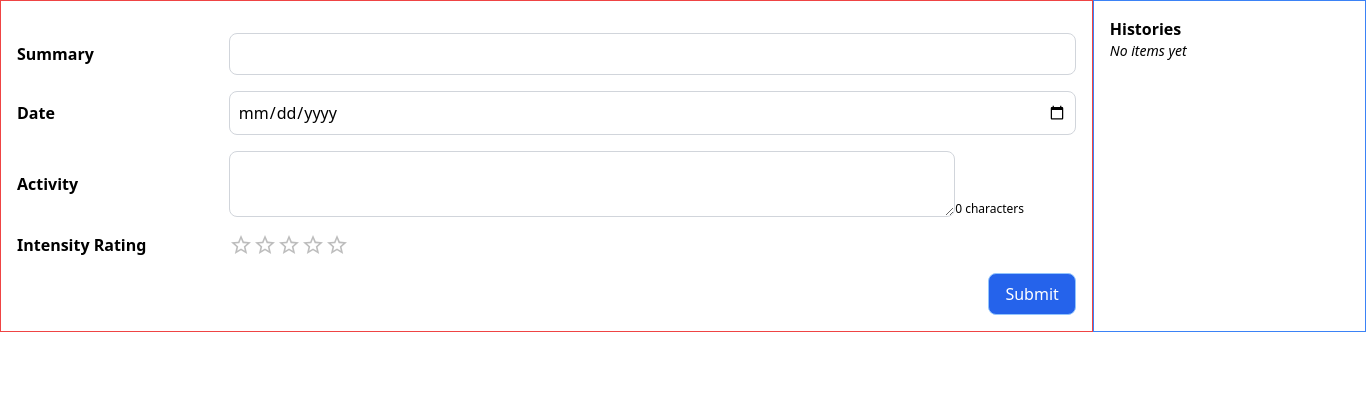
Test: given no input, when user click Submit button, then 3 instances of Cannot be empty is displayed
// user click Submit button
Click the button "Submit".
click(1032, 294)  # box [988,273,1076,315]
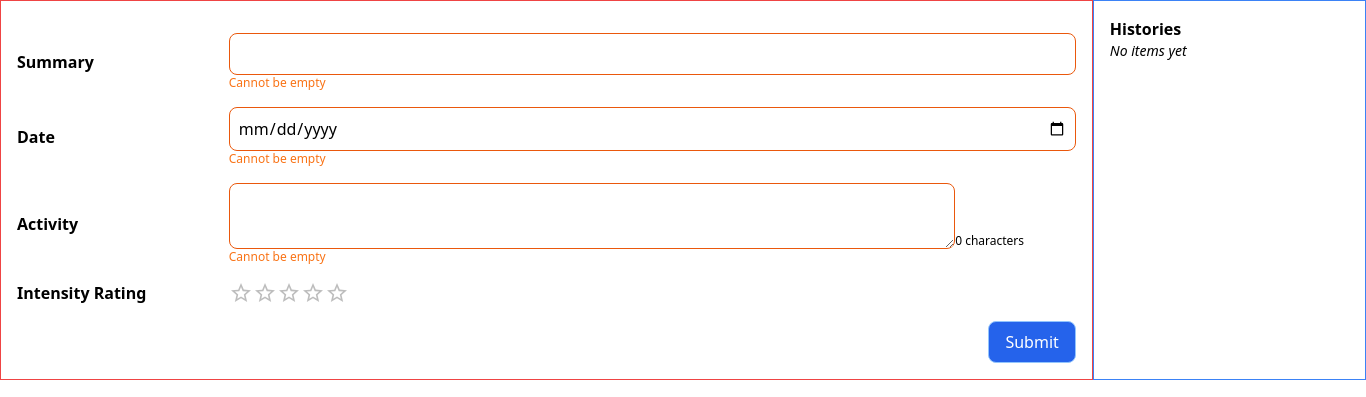
Now the text "Cannot be empty" is shown 3 times, box [229,74,326,91]; [229,150,326,167]; [229,248,326,265]
